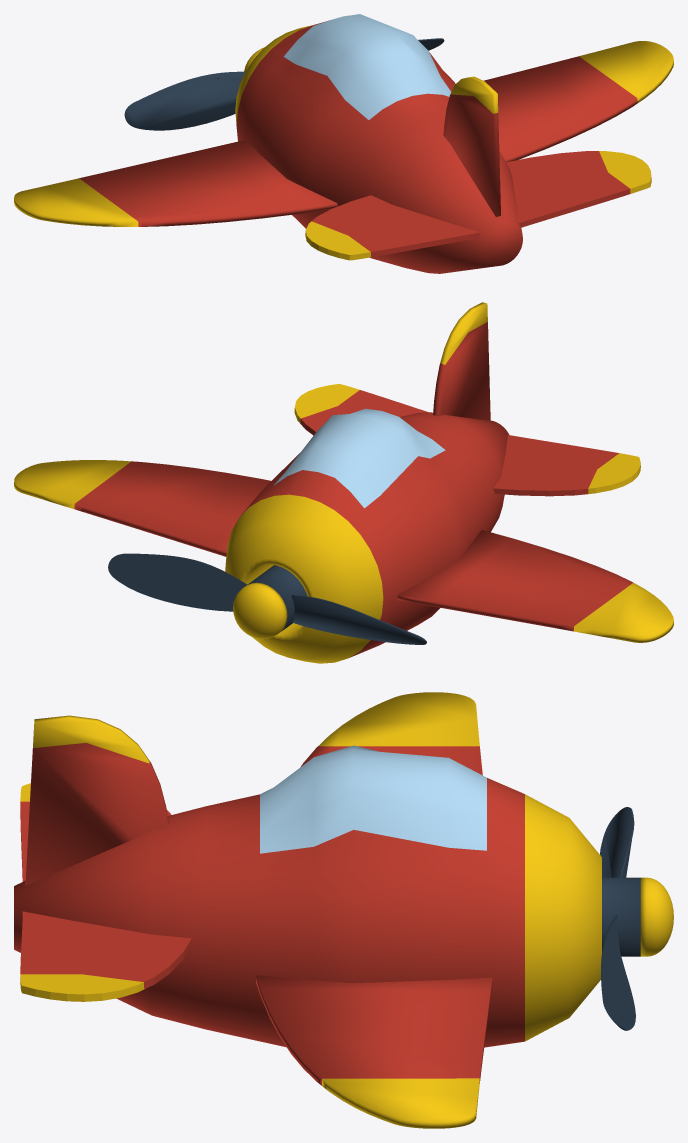
The model's file is airplane.glb.
3 views of the same model, one above another, from view 1: azimuth 30°, elevation 25°; view 2: azimuth 150°, elevation 25°; view 3: azimuth 270°, elevation 25° (orthographic). The views are drawn at different scales.
Parts seen in each view (by area): view 1: Cylinder, Plane.001, Plane, Plane.002, Plane.003, Plane.008, Plane.005; view 2: Cylinder, Plane.001, Plane, Plane.003, Plane.006, Plane.008, Plane.005, Plane.002, Cylinder.002, Cylinder.001; view 3: Cylinder, Plane, Plane.008, Plane.002, Plane.001, Cylinder.001, Plane.006, Cylinder.002, Plane.005, Plane.003.
Boxes of the visible parts, bbox=[...] form: Cylinder: bbox=[235, 14, 522, 273]; Plane.001: bbox=[14, 140, 337, 226]; Plane: bbox=[484, 41, 673, 162]; Plane.002: bbox=[506, 151, 651, 227]; Plane.003: bbox=[305, 195, 480, 260]; Plane.008: bbox=[443, 76, 500, 216]; Plane.005: bbox=[124, 71, 245, 130]; Cylinder: bbox=[225, 408, 509, 663]; Plane.001: bbox=[397, 530, 673, 642]; Plane: bbox=[14, 460, 270, 556]; Plane.003: bbox=[493, 435, 640, 496]; Plane.006: bbox=[108, 553, 247, 611]; Plane.008: bbox=[433, 302, 490, 420]; Plane.005: bbox=[291, 595, 426, 644]; Plane.002: bbox=[294, 384, 428, 435]; Cylinder.002: bbox=[233, 582, 287, 639]; Cylinder.001: bbox=[246, 565, 307, 631]; Cylinder: bbox=[14, 745, 601, 1047]; Plane: bbox=[256, 975, 492, 1128]; Plane.008: bbox=[25, 715, 168, 885]; Plane.002: bbox=[20, 911, 191, 1001]; Plane.001: bbox=[301, 692, 482, 775]; Cylinder.001: bbox=[602, 877, 640, 956]; Plane.006: bbox=[601, 915, 635, 1030]; Cylinder.002: bbox=[640, 877, 673, 956]; Plane.005: bbox=[600, 807, 634, 877]; Plane.003: bbox=[20, 783, 171, 881].
Size of the model in its own units: 2.53 by 0.909 by 1.64.
